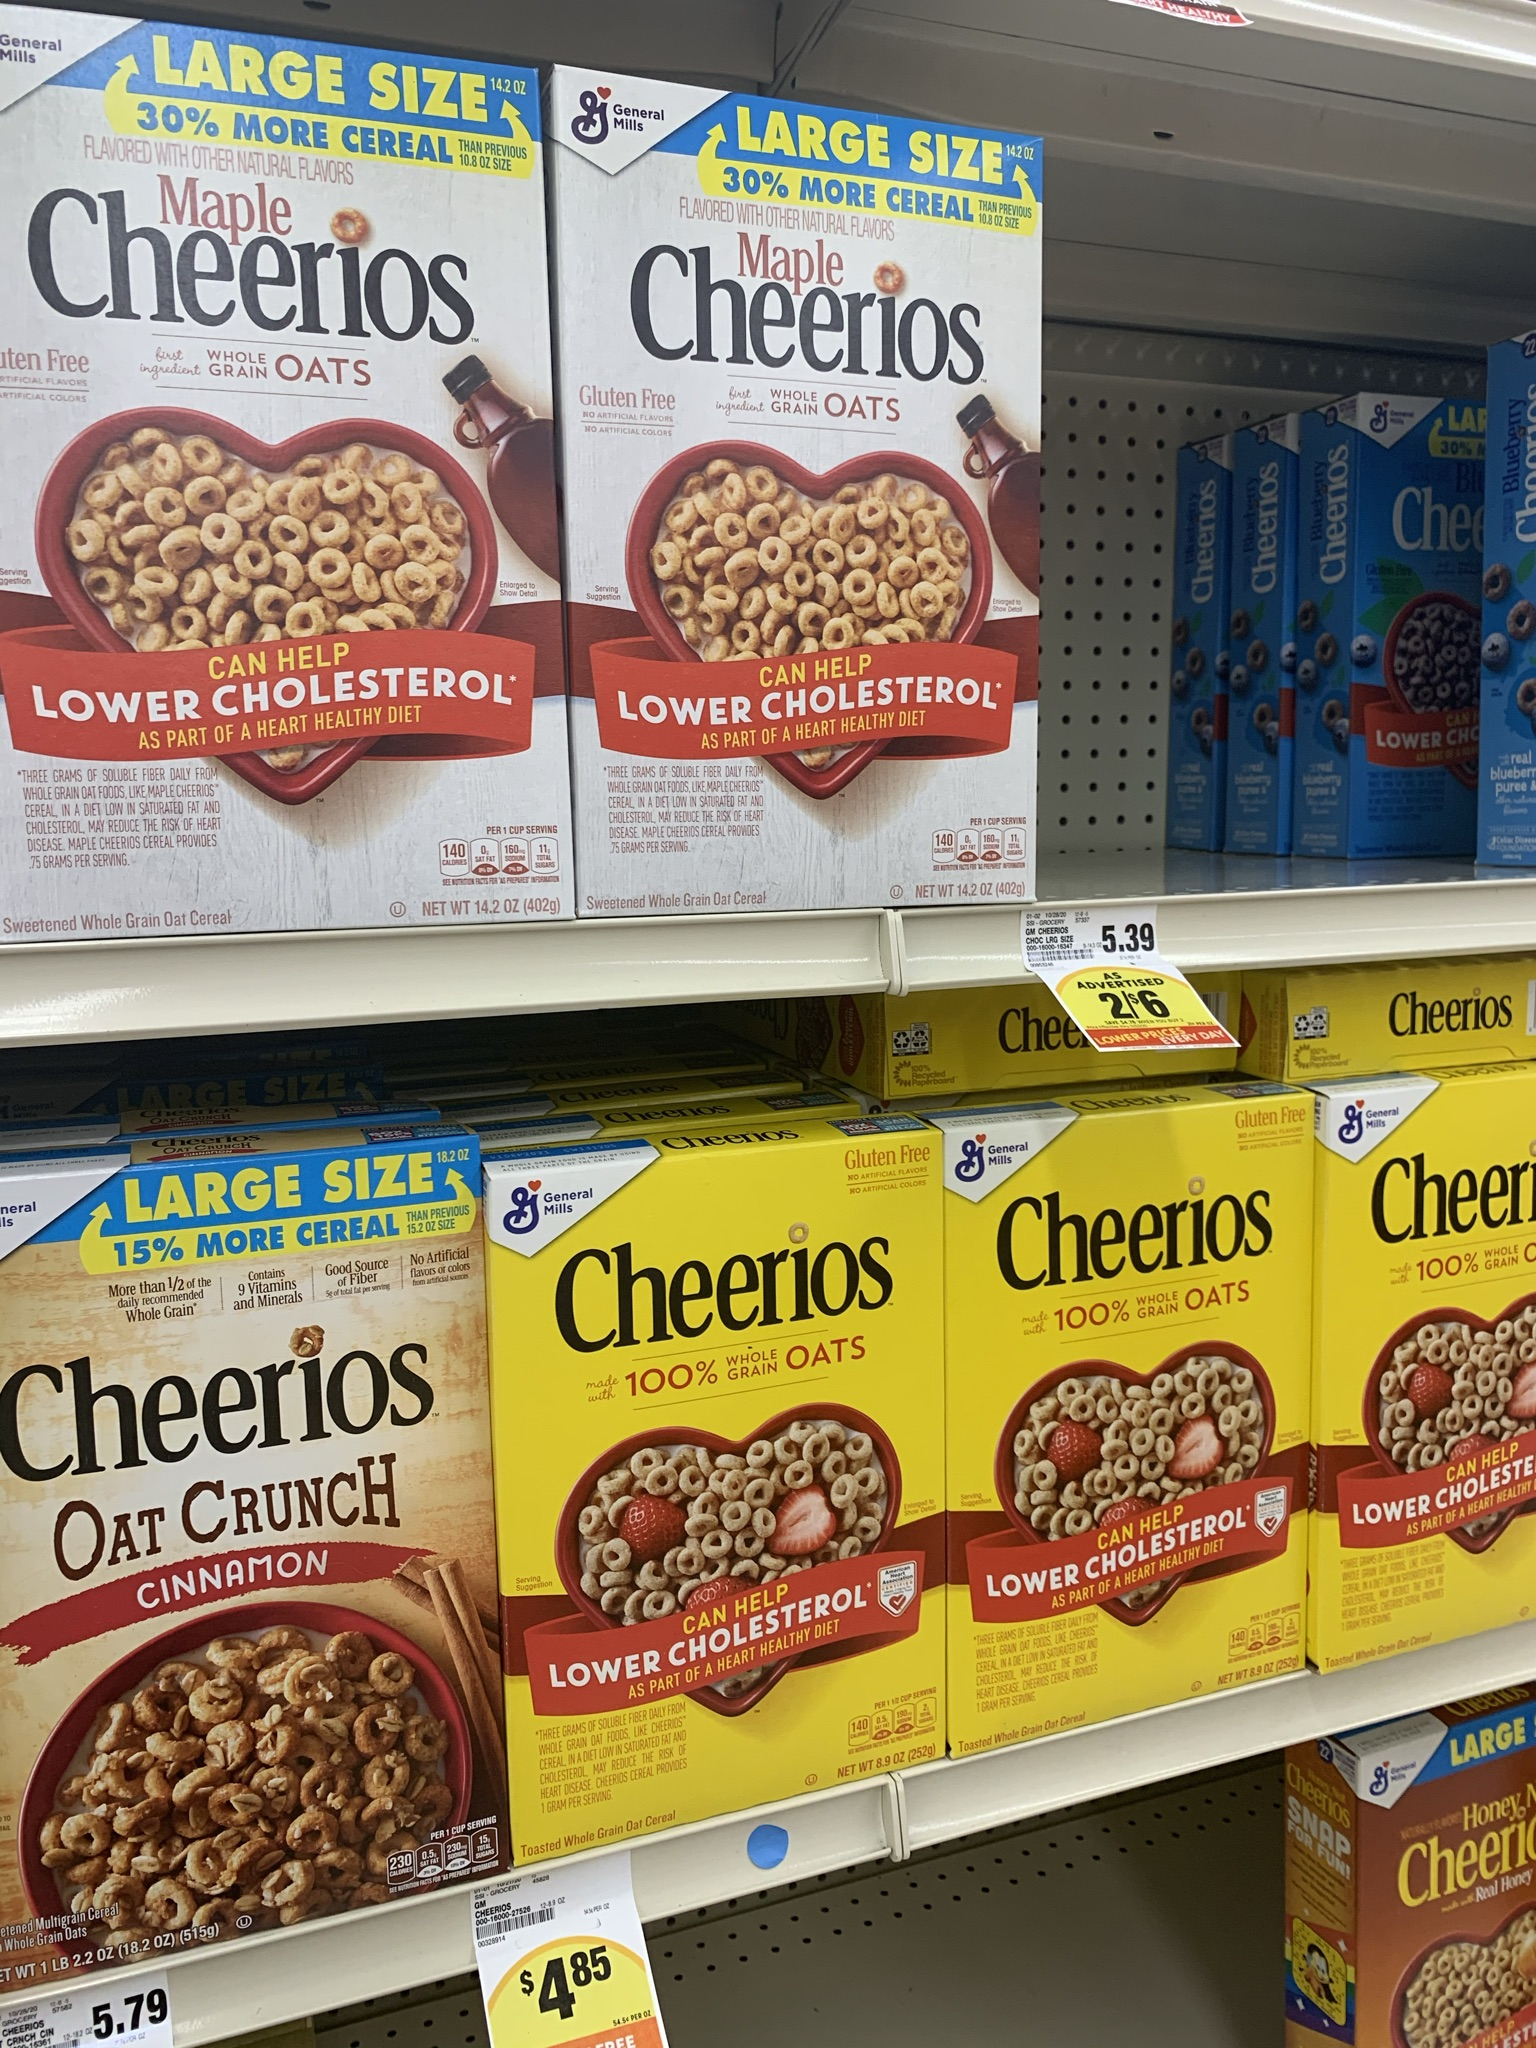Cereal cheerios: (18, 11, 584, 884), (592, 74, 1039, 884), (2, 1185, 466, 1819), (489, 1180, 952, 1755), (949, 1130, 1292, 1669), (1338, 1106, 1518, 1605)
